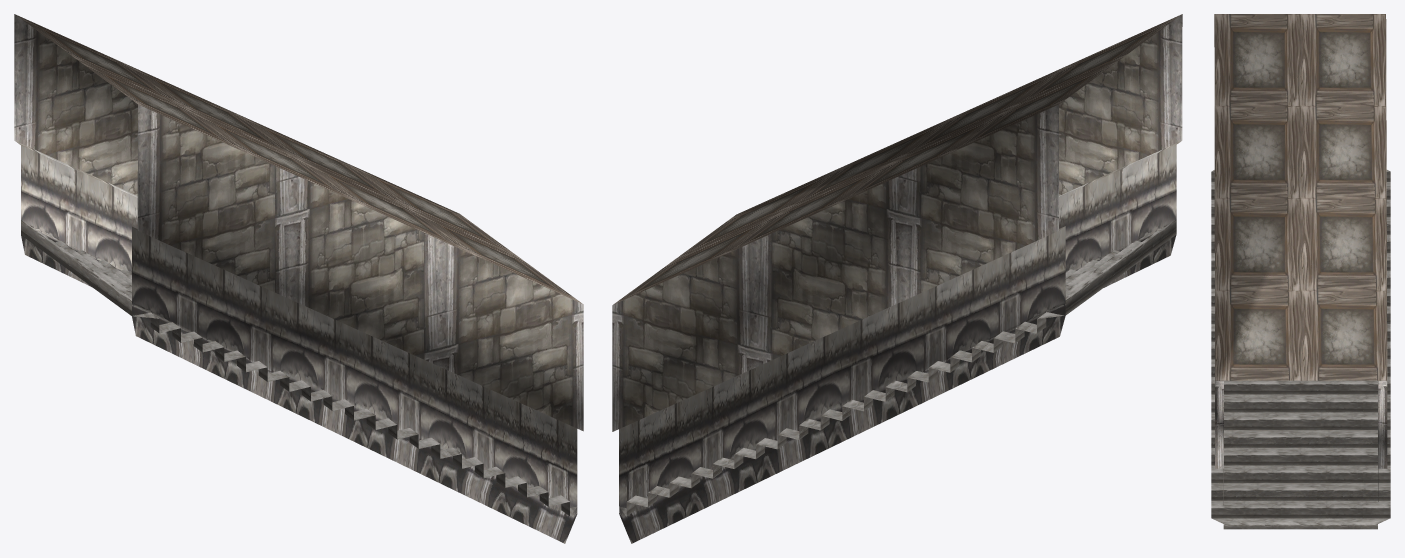
Rendered from stormwind_153.fbx.
The picture shows the model from 3 angles, left to right: view 1: azimuth 30°, elevation 25°; view 2: azimuth 150°, elevation 25°; view 3: azimuth 270°, elevation 25°; orthographic projection. The views are drawn at different scales.
Parts seen in each view (by area): view 1: stormwind_153_159, stormwind_153_154, stormwind_153_156, stormwind_153_158; view 2: stormwind_153_159, stormwind_153_154, stormwind_153_156, stormwind_153_158; view 3: stormwind_153_156, stormwind_153_158, stormwind_153_152.
Boxes of the visible parts, x1,y1,x2,y2 form: stormwind_153_159: (14,14,583,431); stormwind_153_154: (15,141,577,543); stormwind_153_156: (15,14,582,303); stormwind_153_158: (21,220,576,516); stormwind_153_159: (612,14,1182,431); stormwind_153_154: (619,141,1181,543); stormwind_153_156: (613,14,1181,304); stormwind_153_158: (619,219,1176,516); stormwind_153_156: (1214,14,1387,380); stormwind_153_158: (1211,170,1390,529); stormwind_153_152: (1215,380,1387,468).
Size of the model in its own units: 11.82 by 13.93 by 5.92.
